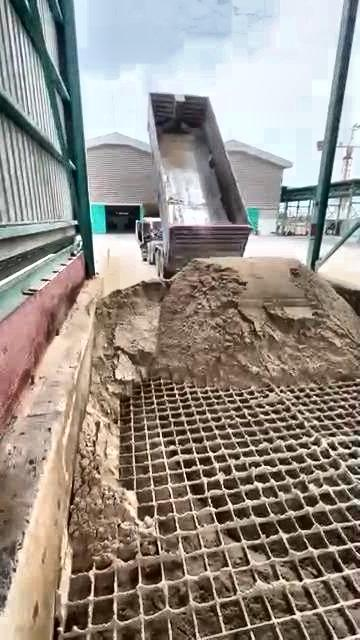sand: (71, 258, 360, 566)
